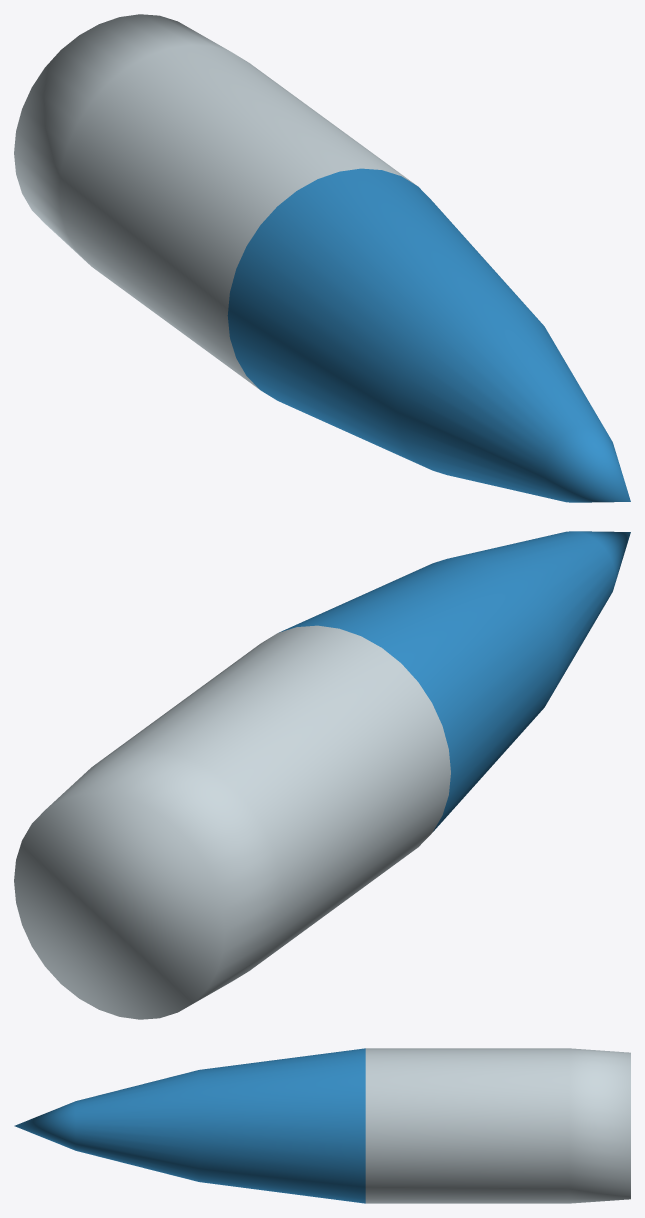
The model's file is cannon_20_projectile_display.glb.
3 renders of one model, top to bottom at view 1: azimuth 30°, elevation 25°; view 2: azimuth 150°, elevation 25°; view 3: azimuth 270°, elevation 25°, orthographic. The views are drawn at different scales.
Visible parts, largest first — view 1: AMMO_MESH.022; view 2: AMMO_MESH.022; view 3: AMMO_MESH.022.
Part boxes in pixels (left/top/right/bottom): AMMO_MESH.022: left=14, top=14, right=630, bottom=502; AMMO_MESH.022: left=14, top=531, right=630, bottom=1019; AMMO_MESH.022: left=14, top=1048, right=630, bottom=1203.
Size of the model in its own units: 0.0202 by 0.0202 by 0.08.
